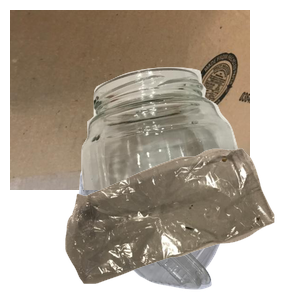cardboard: (10, 10, 250, 190)
glass: (74, 65, 300, 245)
plastic: (75, 147, 289, 300)
trash: (63, 145, 300, 300)
